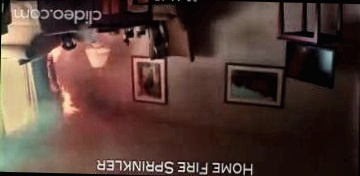fire: (42, 72, 95, 131)
